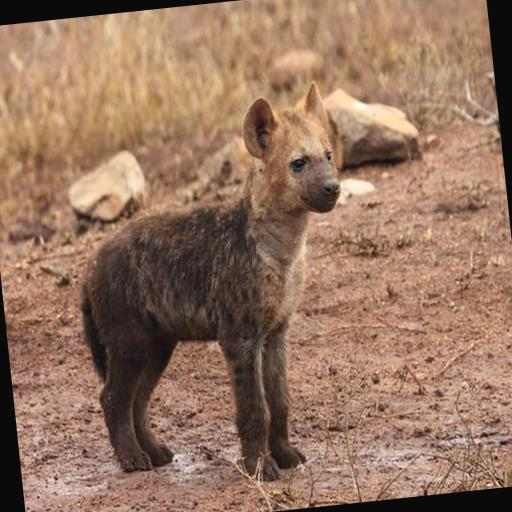hyenas: (34, 58, 400, 506)
